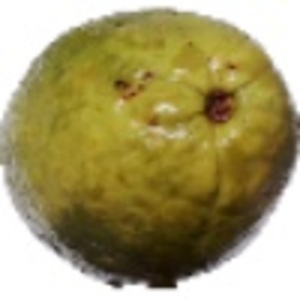goiaba: (5, 6, 295, 277)
